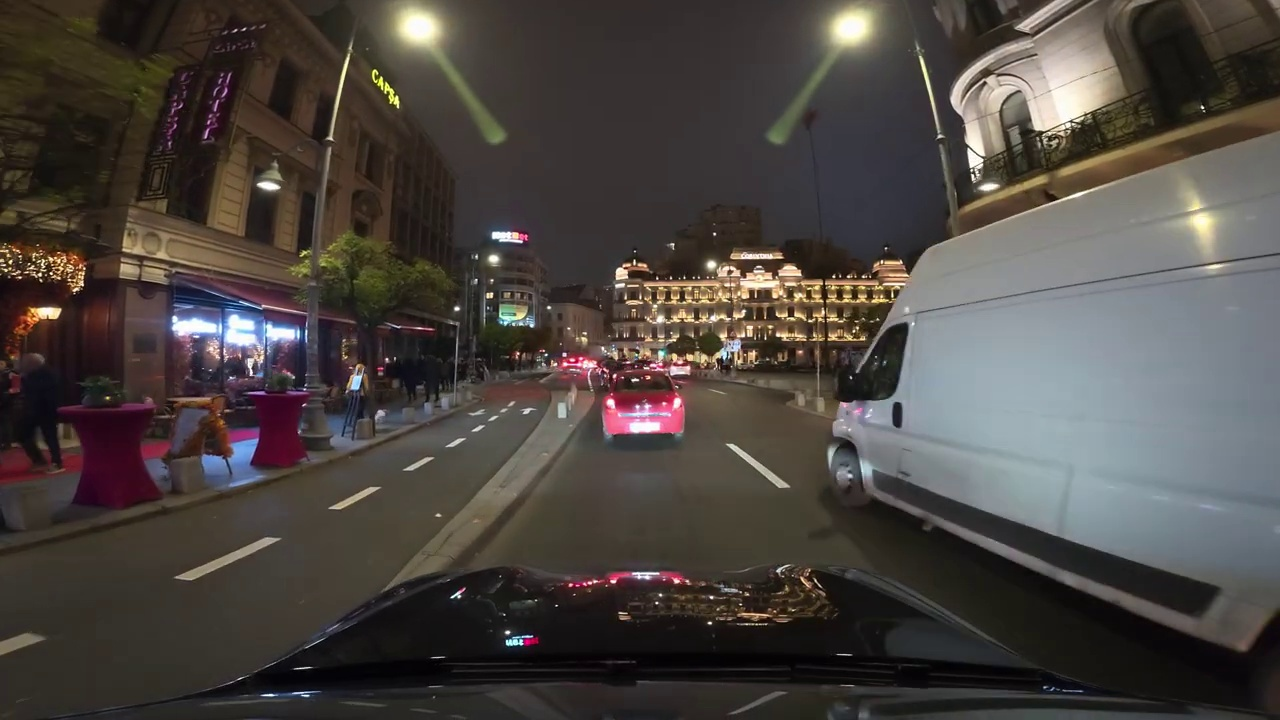acesa: (398, 10, 440, 49), (831, 11, 872, 48)
